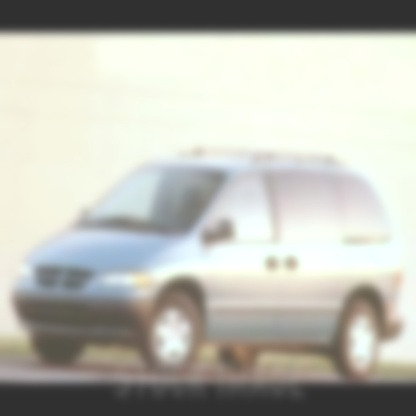Vehicle: (12, 147, 409, 384)
